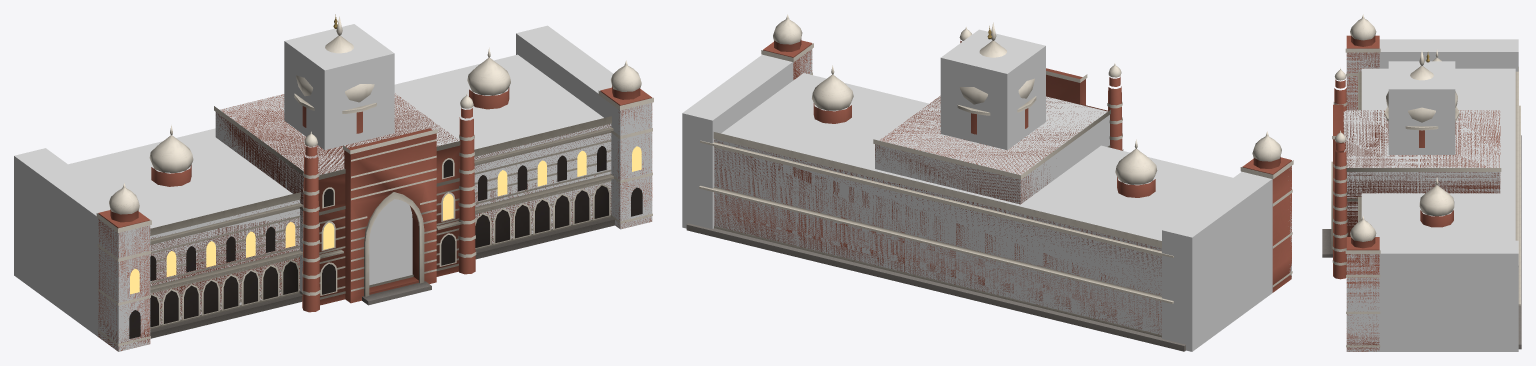
File: high_court.glb
3 renders of one model, left to right at view 1: azimuth 30°, elevation 25°; view 2: azimuth 150°, elevation 25°; view 3: azimuth 270°, elevation 25°, orthographic. The views are drawn at different scales.
Parts seen in each view (by area): view 1: COL_high_court, high_court_body; view 2: COL_high_court, high_court_body; view 3: COL_high_court, high_court_body.
Boxes of the visible parts, box(x1,y1,x2,y2) form: COL_high_court: box(14, 24, 652, 351); high_court_body: box(96, 14, 653, 351); COL_high_court: box(682, 29, 1291, 351); high_court_body: box(686, 14, 1293, 351); COL_high_court: box(1343, 39, 1518, 351); high_court_body: box(1322, 14, 1521, 351).
Size of the model in its own units: 169 by 71.45 by 66.
6 materials, 6 textured.
